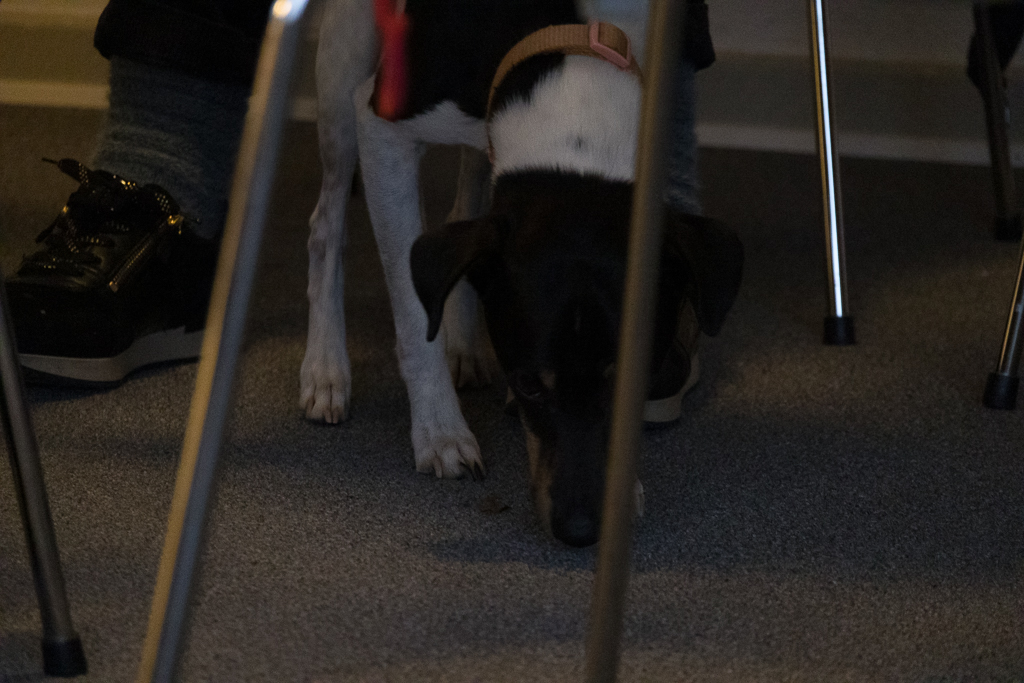Dog: (286, 0, 757, 564)
Humanoid: (0, 0, 728, 433)
